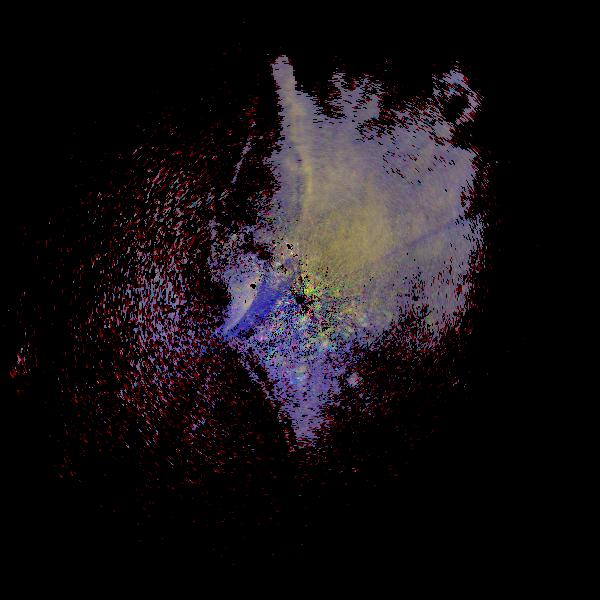roost: (342, 301, 366, 325), (294, 367, 309, 382)
